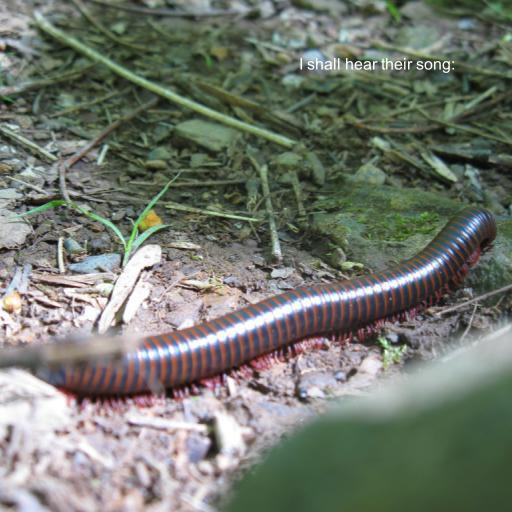Arial: (299, 58, 455, 73)
